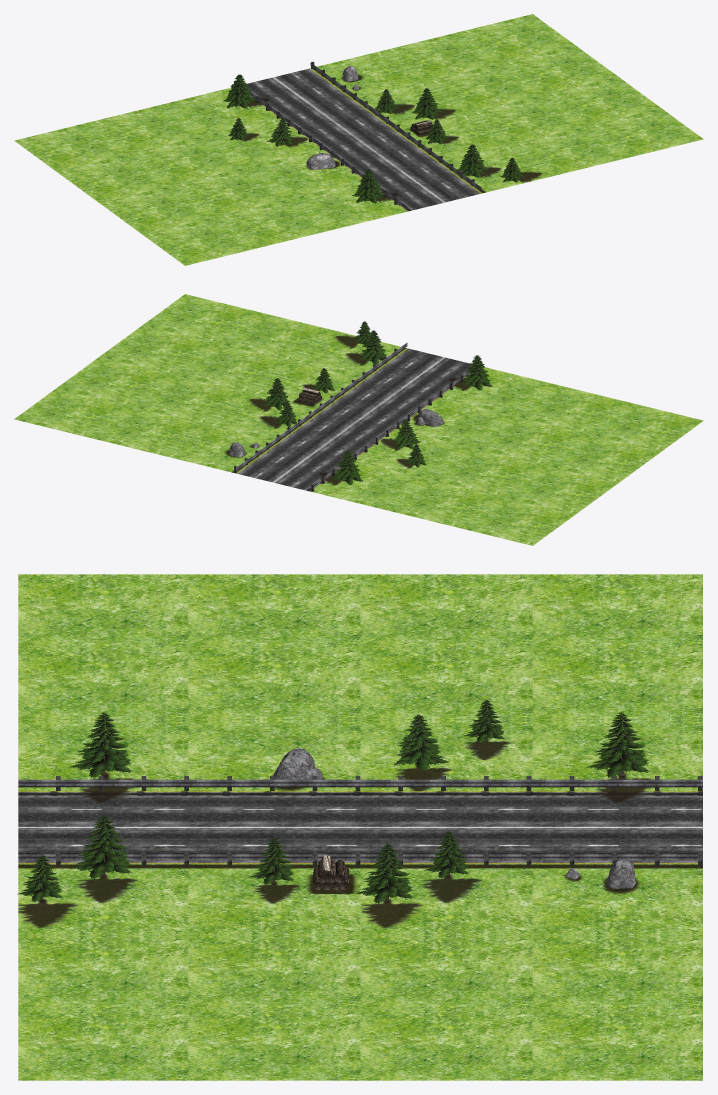
3 renders of one model, top to bottom at view 1: azimuth 30°, elevation 25°; view 2: azimuth 150°, elevation 25°; view 3: azimuth 270°, elevation 25°, orthographic. The views are drawn at different scales.
Visible parts, largest first — view 1: scene1, road, Box050, rock1; view 2: scene1, road, Box050, rock1; view 3: scene1, road, Box050, rock1, wood_block.
Part boxes in pixels (bbox=[...]): scene1: bbox=[14, 14, 703, 265]; road: bbox=[234, 61, 481, 211]; Box050: bbox=[223, 74, 523, 203]; rock1: bbox=[306, 66, 359, 169]; scene1: bbox=[14, 294, 703, 545]; road: bbox=[234, 343, 481, 491]; Box050: bbox=[264, 321, 493, 485]; rock1: bbox=[229, 408, 443, 456]; scene1: bbox=[18, 574, 702, 1080]; road: bbox=[18, 776, 702, 865]; Box050: bbox=[17, 699, 650, 903]; rock1: bbox=[273, 748, 635, 888]; wood_block: bbox=[313, 855, 349, 889].
Bounding box in the file's own units: 140 × 8.45 × 80.37.
